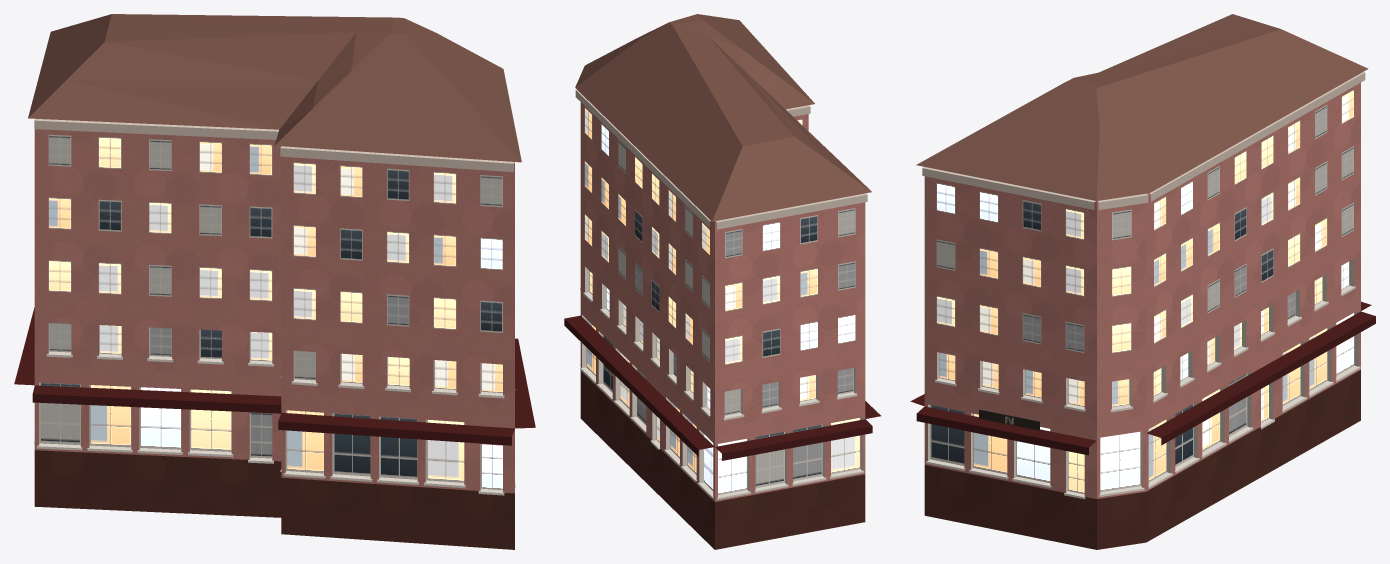
Rendered from langB_gotthard.glb.
3 renders of one model, left to right at view 1: azimuth 30°, elevation 25°; view 2: azimuth 150°, elevation 25°; view 3: azimuth 270°, elevation 25°, orthographic. The views are drawn at different scales.
Visible parts, largest first — view 1: langB_gotthard; view 2: langB_gotthard; view 3: langB_gotthard.
Part boxes in pixels (x1=…): langB_gotthard: x1=14, y1=14, x2=535, y2=549; langB_gotthard: x1=564, y1=14, x2=880, y2=549; langB_gotthard: x1=910, y1=14, x2=1375, y2=549.
Size of the model in its own units: 23.6 by 24.74 by 24.91.
Materials: 3 (3 with a texture image).
